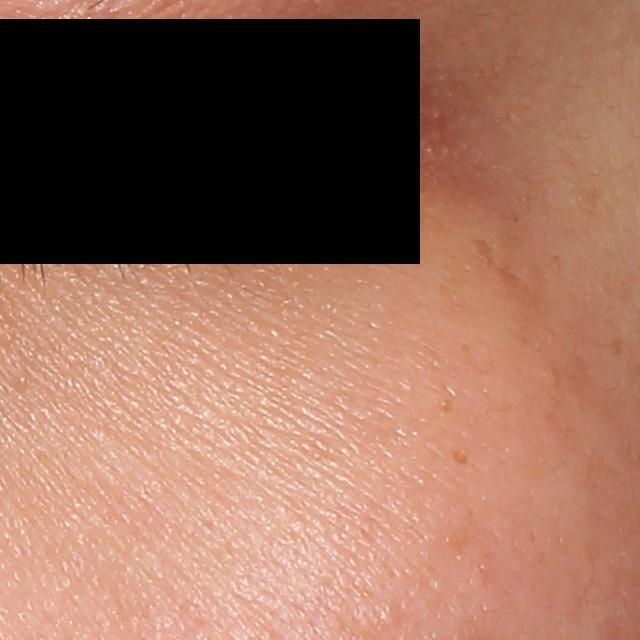melasma: (498, 266, 561, 348), (467, 233, 513, 278), (607, 334, 628, 359), (448, 447, 470, 467), (439, 396, 457, 417)
